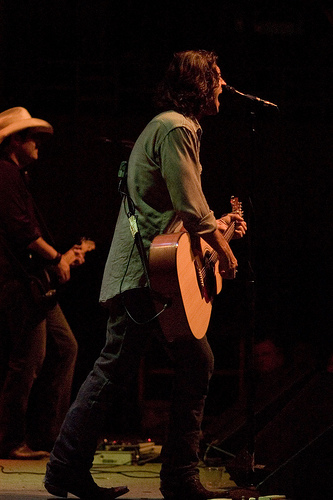guitar: (147, 193, 247, 343)
